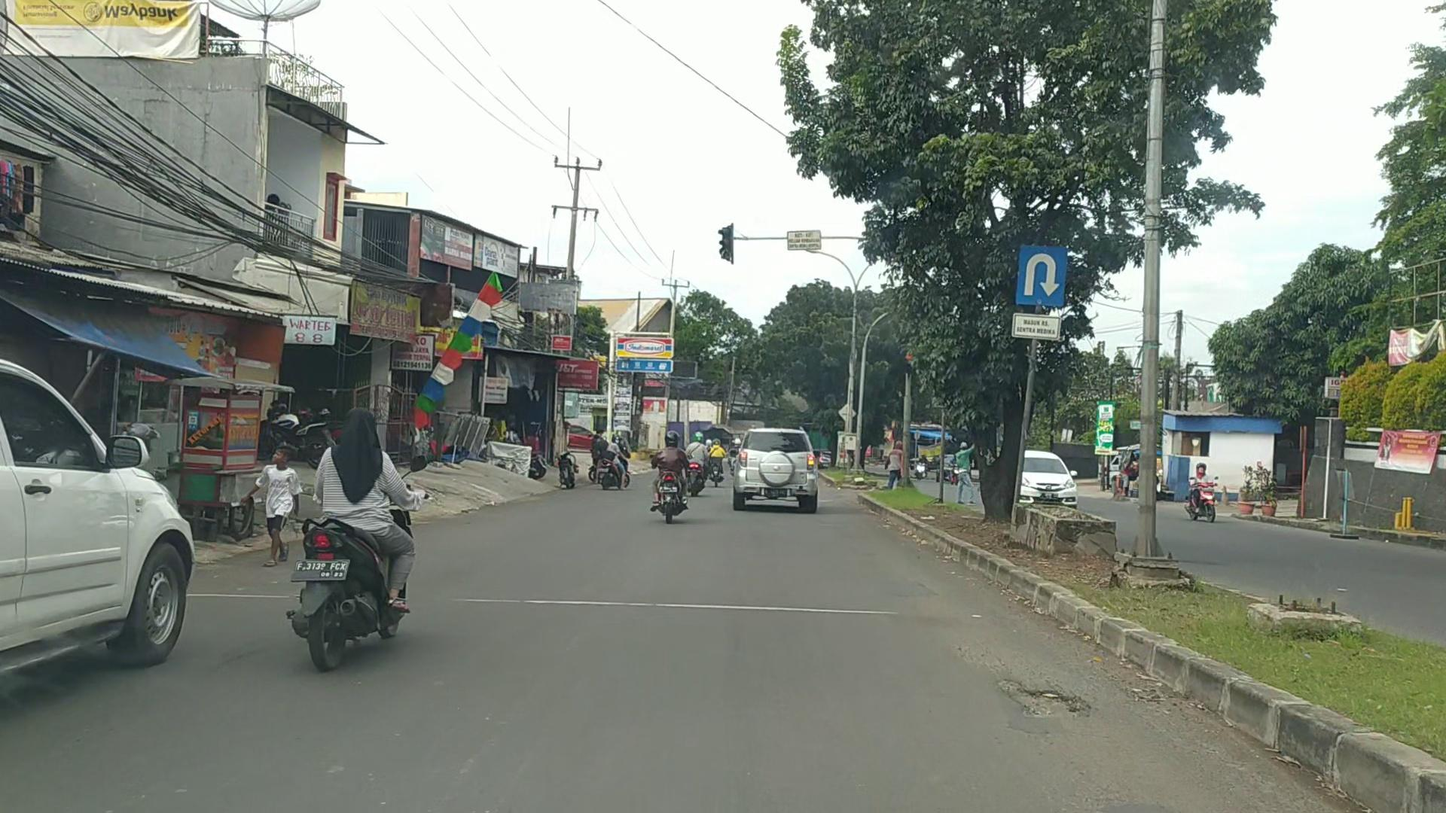pothole: (994, 674, 1086, 719)
